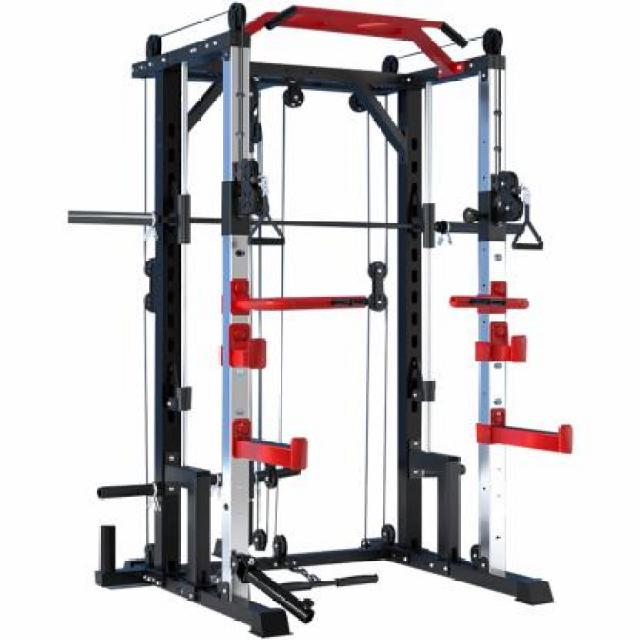smith machine: (67, 3, 576, 637)
